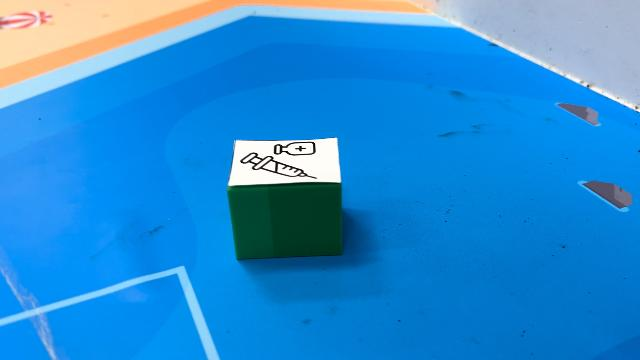syringe: (227, 139, 343, 261)
